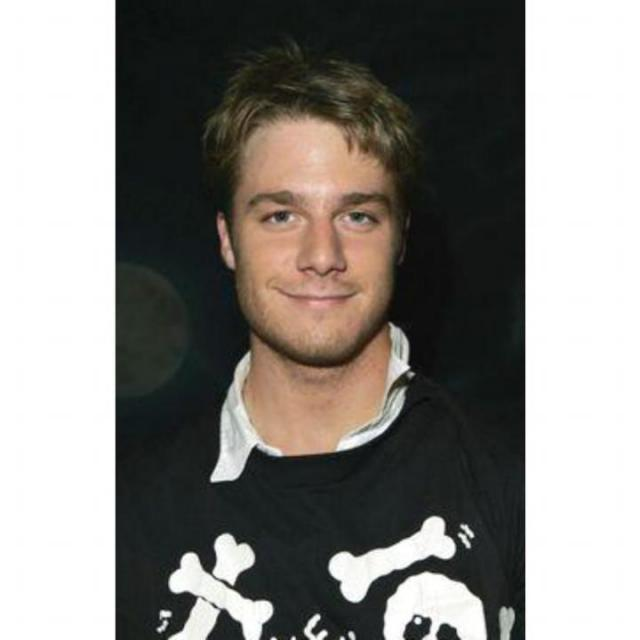live: (208, 118, 422, 371)
